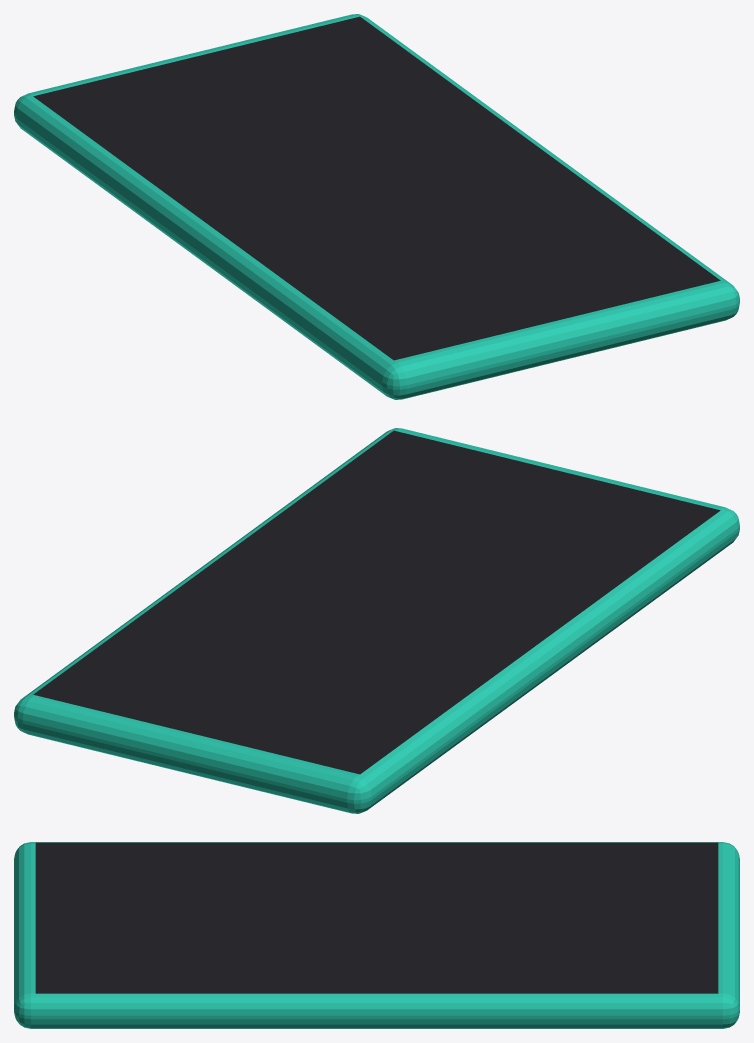
File: Phone_141.glb
The picture shows the model from 3 angles, top to bottom: view 1: azimuth 30°, elevation 25°; view 2: azimuth 150°, elevation 25°; view 3: azimuth 270°, elevation 25°; orthographic projection. The views are drawn at different scales.
Visible parts, largest first — view 1: Phone_Screen, Phone_Body; view 2: Phone_Screen, Phone_Body; view 3: Phone_Screen, Phone_Body.
Part boxes in pixels (x1,y1,x2,y2): Phone_Screen: (33,16,720,360); Phone_Body: (14,14,739,399); Phone_Screen: (33,430,720,774); Phone_Body: (14,428,739,813); Phone_Screen: (35,842,718,993); Phone_Body: (14,842,739,1028).
Size of the model in its own units: 0.0756 by 0.0074 by 0.1414.
